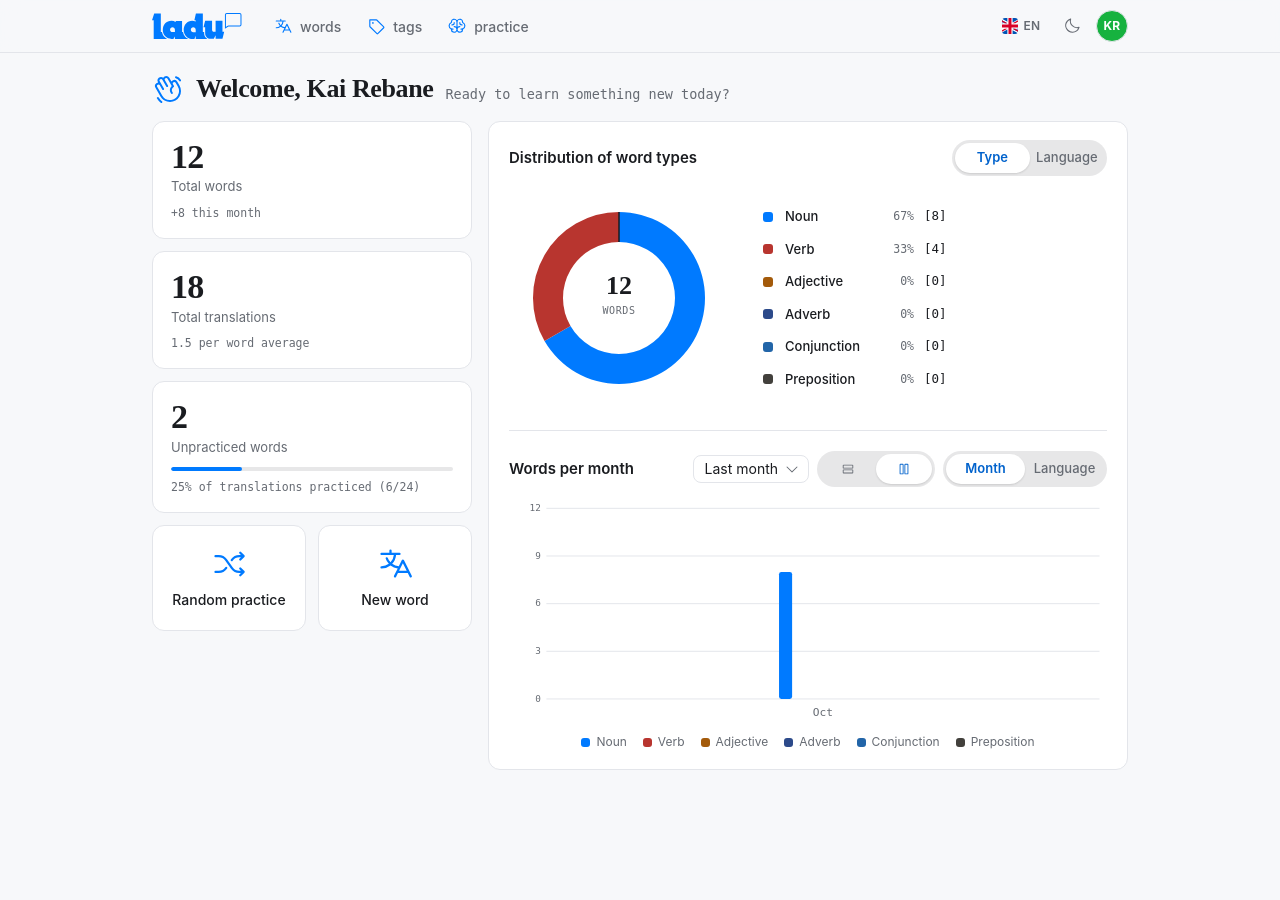
DashboardPage — MetricsPanel › switches the bar chart x-axis from month to language
This screenshot has width=1280, height=900.
Expected: the picture named "Words per month" is shown, [509, 499, 1107, 723]
Click the radio button labelled "Language" in the row of "Words per month".
click(1064, 469)  # box [1025, 454, 1104, 484]
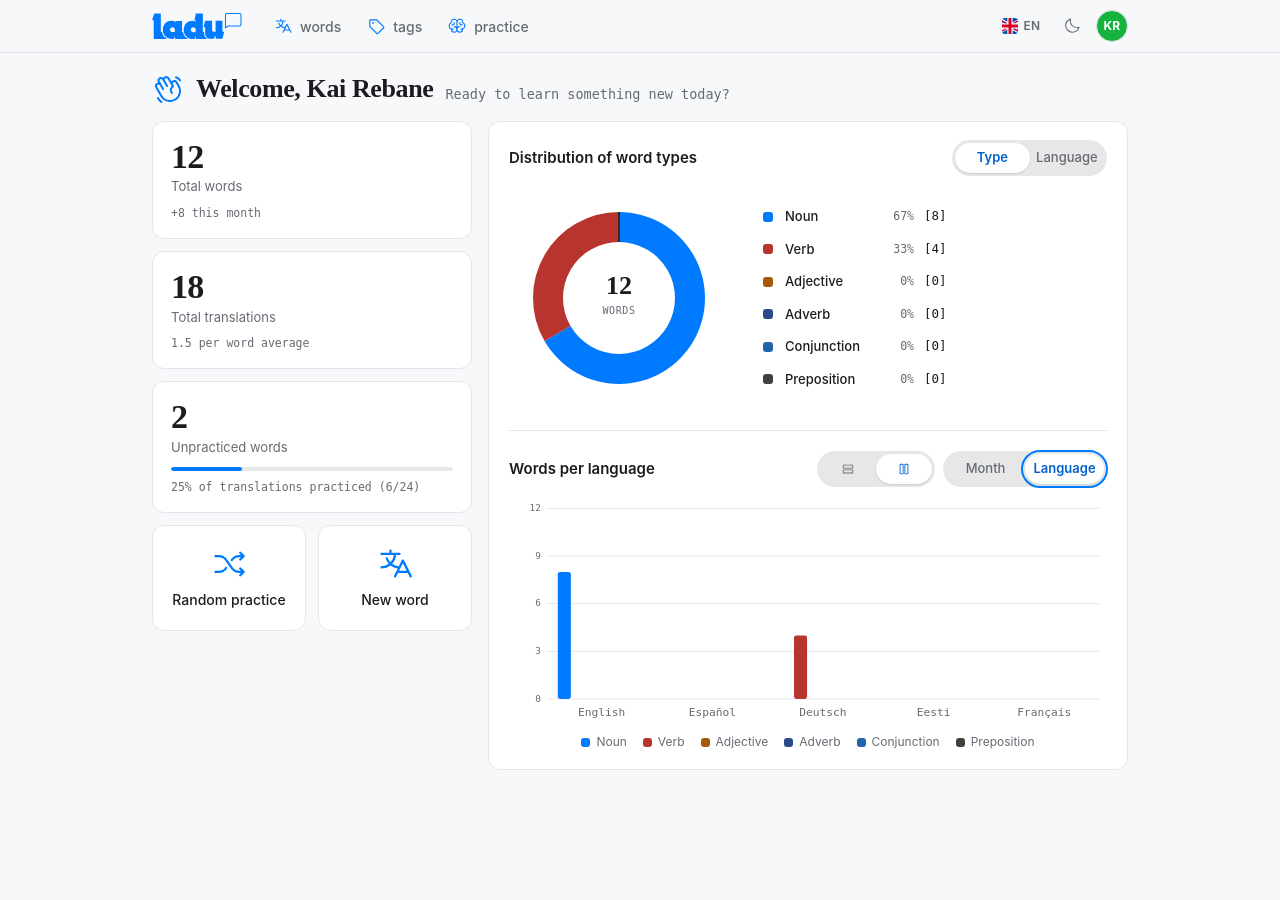
Expected: the picture named "Words per language" is shown, [509, 499, 1107, 723]
